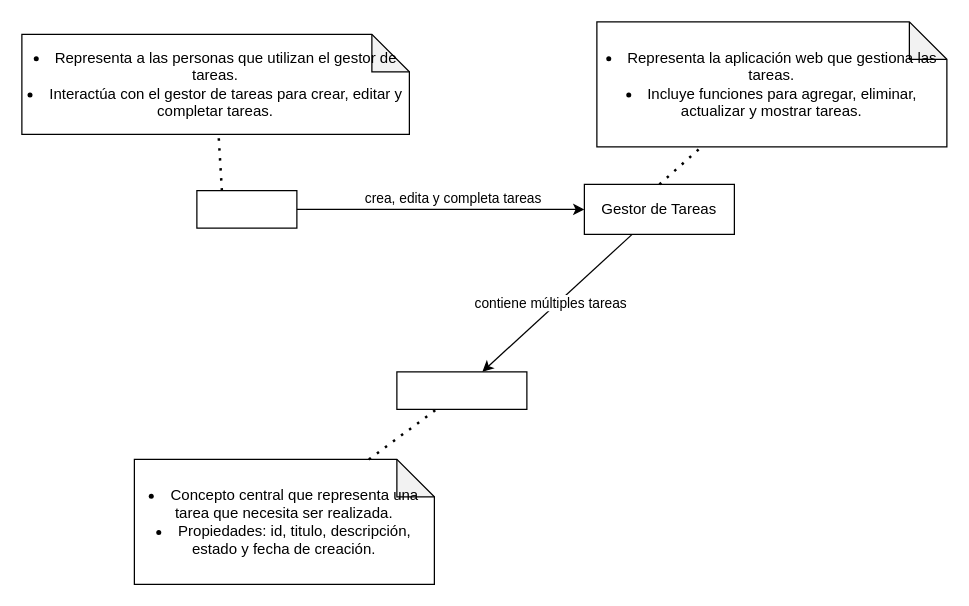
The diagram is 969 pixels wide and 606 high, and some of its shapes have lost their labels. Here are the shapes that lost their labels. From the top down, the centre of each, then its label:
the point at 246,208: Usuario
the point at 461,390: Tarea
